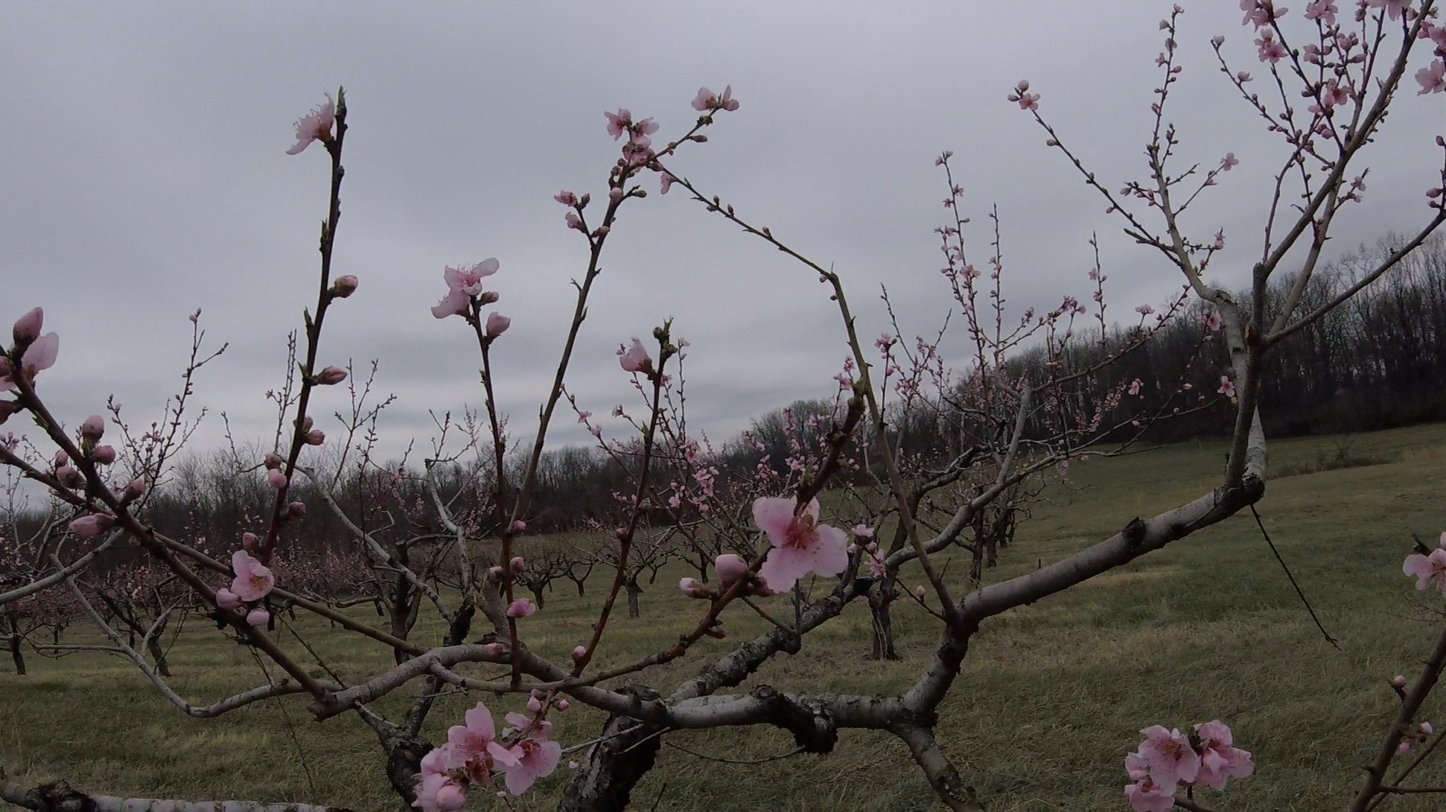flower: (411, 702, 562, 812), (1124, 720, 1255, 812), (752, 490, 858, 594), (431, 258, 500, 320), (208, 550, 277, 609), (286, 92, 340, 155), (14, 308, 60, 377), (1404, 532, 1446, 592), (605, 109, 660, 152), (616, 338, 653, 385), (1322, 70, 1361, 109), (714, 539, 748, 583), (1254, 29, 1291, 66), (1304, 0, 1338, 34), (1415, 60, 1446, 97), (1365, 0, 1416, 22), (1240, 0, 1273, 33), (692, 462, 721, 498), (68, 513, 106, 537), (89, 439, 125, 464), (1418, 20, 1446, 52), (502, 712, 533, 738), (1331, 32, 1358, 61), (691, 88, 719, 112), (486, 313, 512, 338), (0, 376, 23, 402), (718, 86, 740, 112), (553, 210, 583, 229), (266, 462, 287, 489), (320, 366, 349, 385), (507, 599, 536, 617), (81, 415, 105, 434), (1019, 94, 1041, 114), (555, 191, 578, 209), (247, 606, 270, 624), (1217, 376, 1235, 397), (1206, 309, 1223, 331), (1308, 104, 1324, 127), (1303, 45, 1322, 64), (1219, 154, 1239, 172), (609, 183, 624, 207), (661, 173, 676, 195), (1236, 72, 1254, 90), (528, 689, 541, 712), (1273, 8, 1289, 20)
